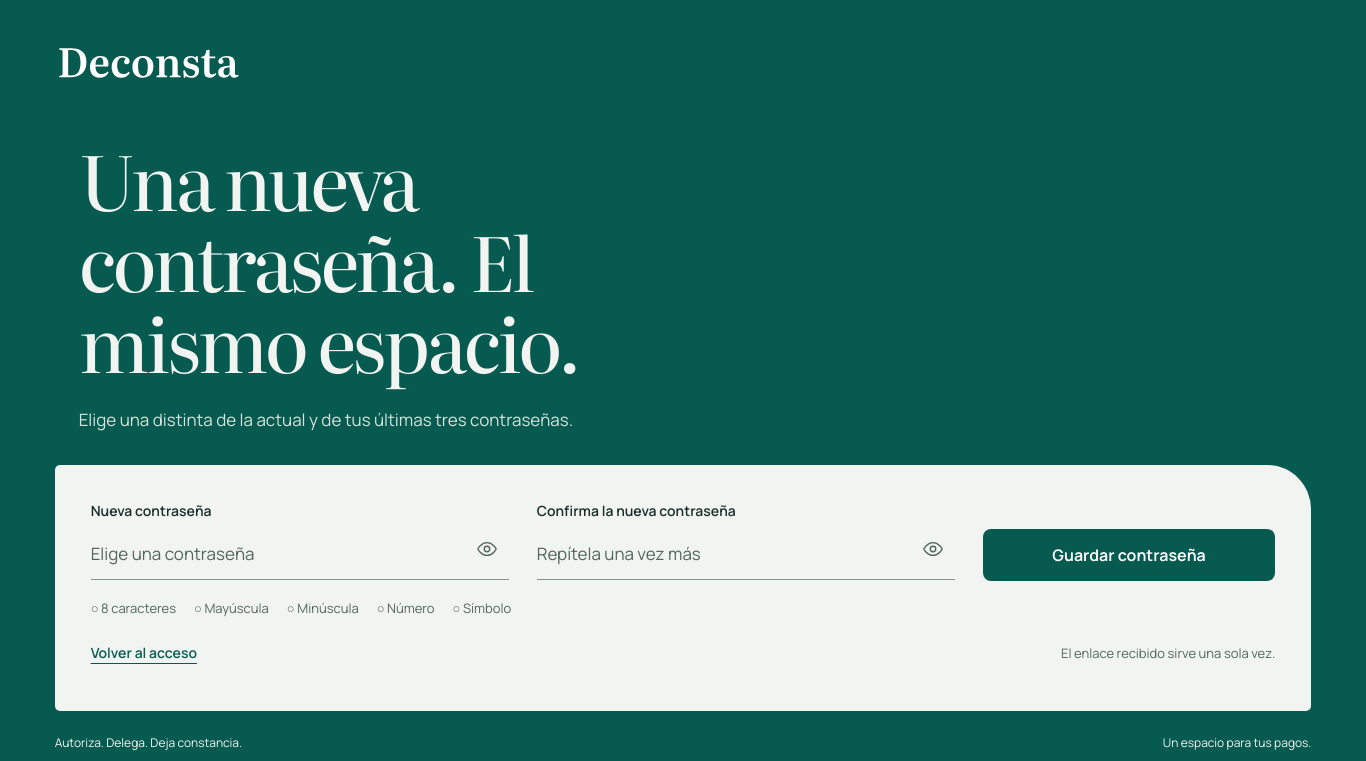
restablecer la contraseña › muestra el motivo específico de contraseña débil que devuelve la API
The width and height of the screenshot is (1366, 761).
Type "Nueva-clave-segura-7!" into the password field named "nueva".
click(300, 554); type("Nueva-clave-segura-7!")  # box left=91, top=528, right=509, bottom=580
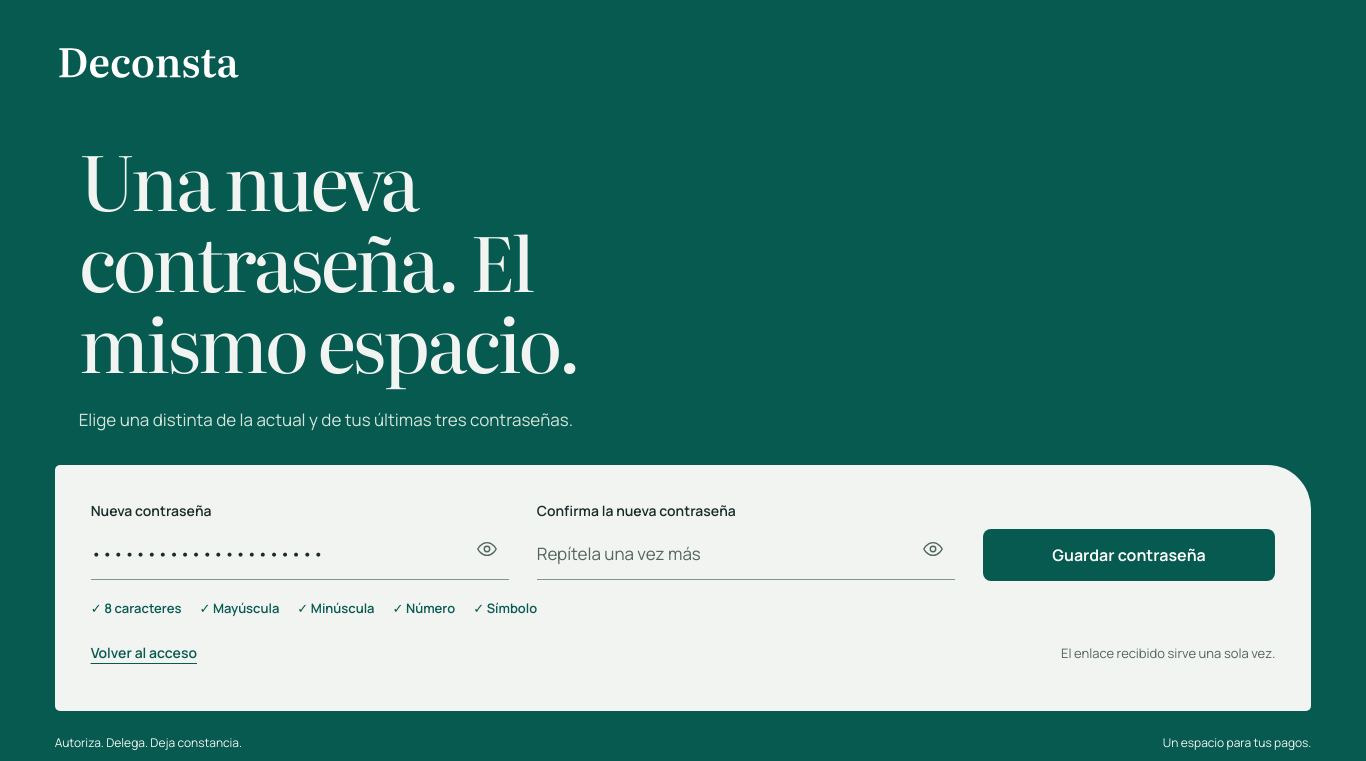
Type "Nueva-clave-segura-7!" into the password field labelled "Confirma la nueva contraseña".
click(746, 554); type("Nueva-clave-segura-7!")  # box left=537, top=528, right=955, bottom=580
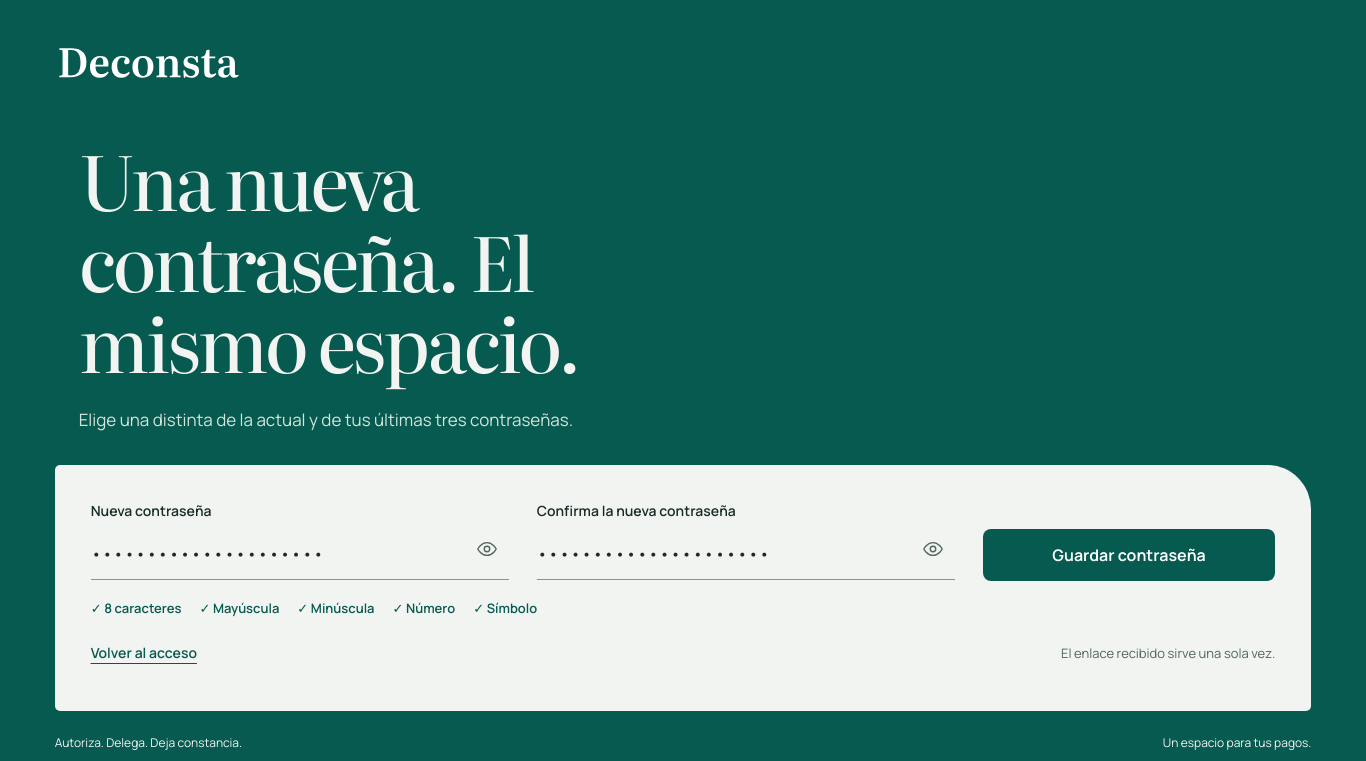
Submit the form, box left=91, top=501, right=1275, bottom=581
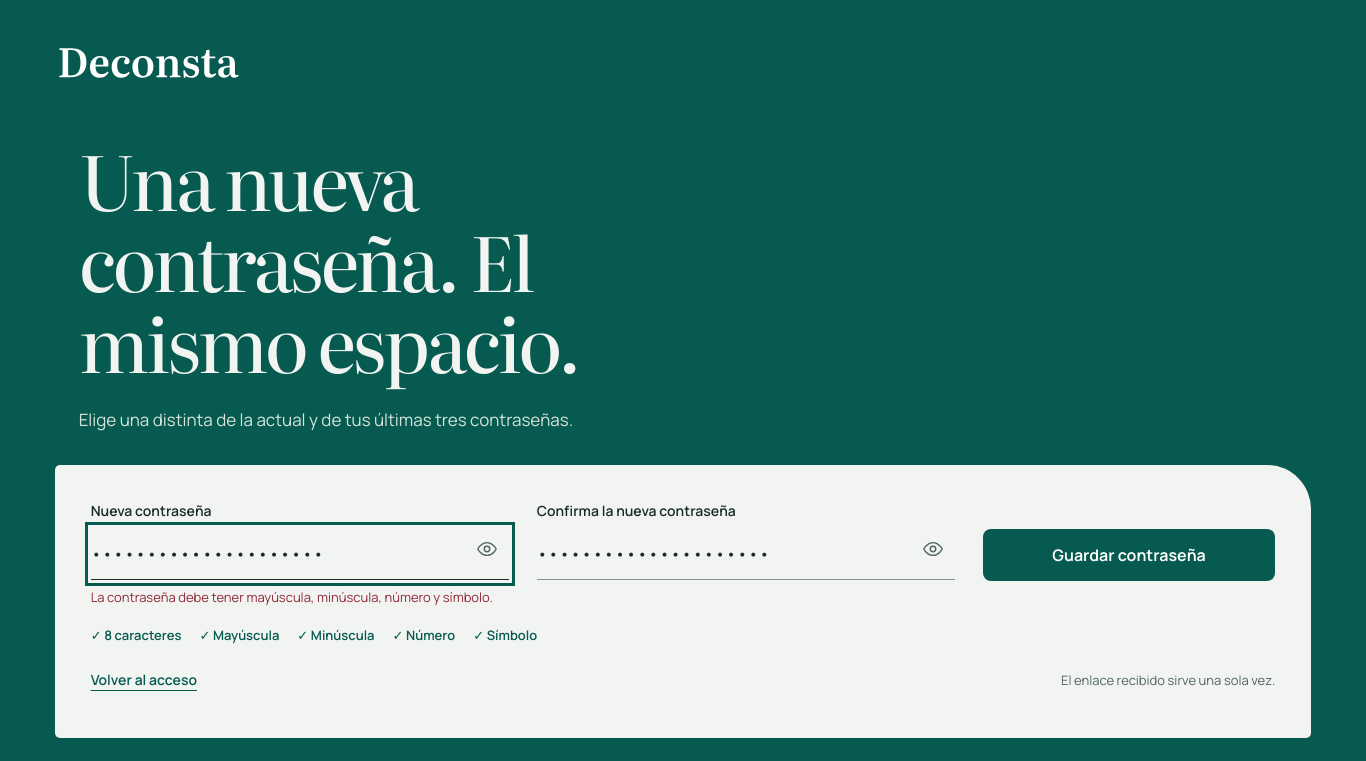
Expected: the message with class "error" shows "mayúscula", left=91, top=588, right=493, bottom=606
